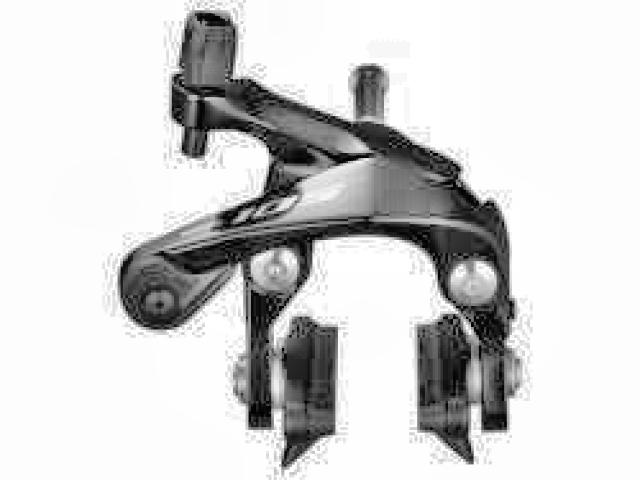rim_brake: (114, 9, 524, 469)
